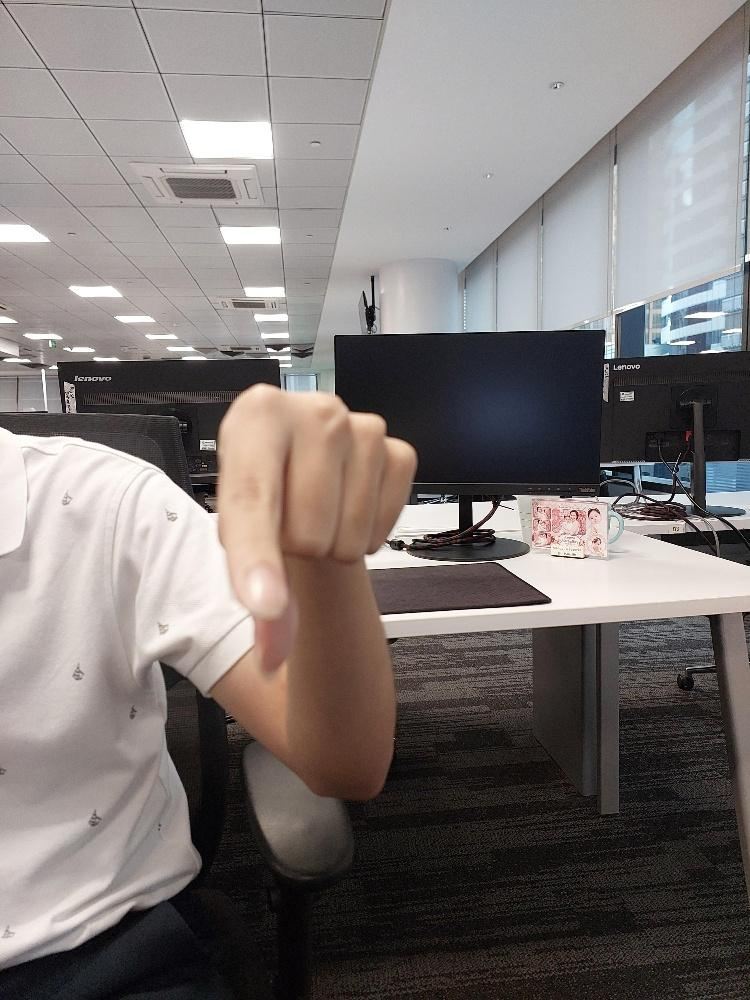z: (211, 381, 419, 621)
